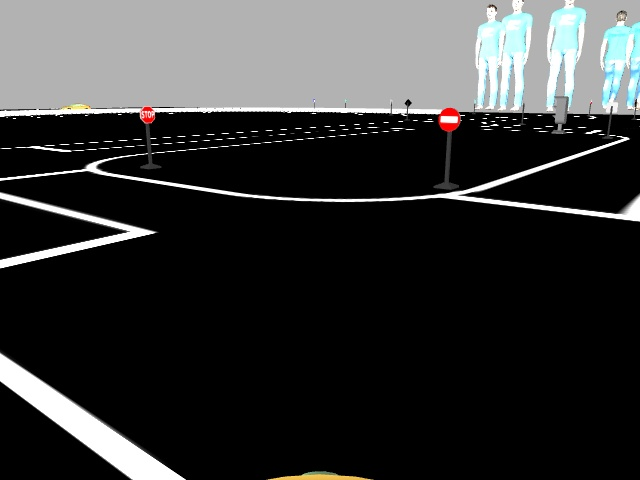NoEntry: (435, 106, 460, 131)
Stop: (137, 107, 157, 124)
